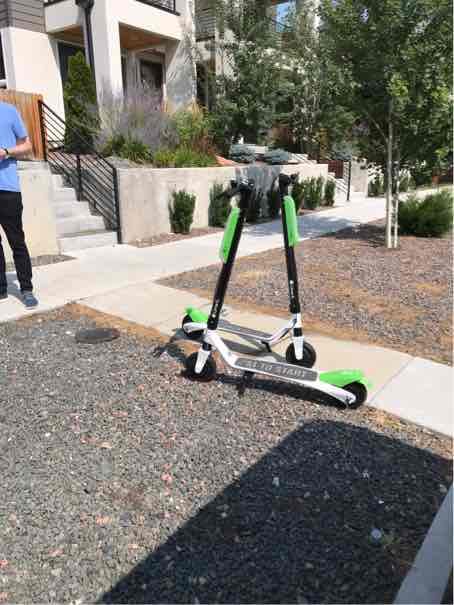scooter: (174, 158, 366, 409)
